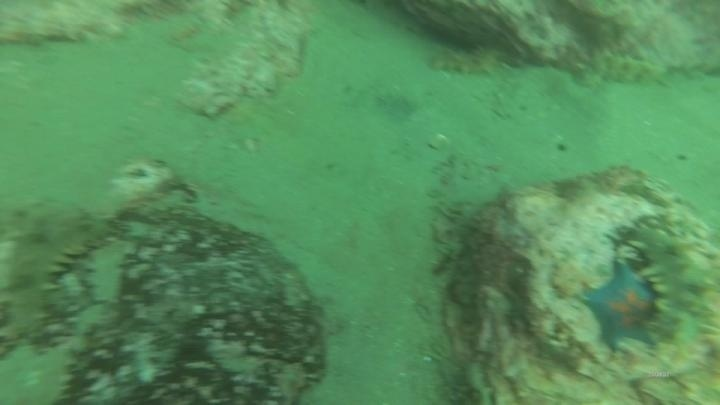holothurian: (0, 199, 117, 344), (620, 220, 716, 365), (572, 47, 674, 91), (423, 41, 512, 81)
starfish: (579, 259, 665, 356)
